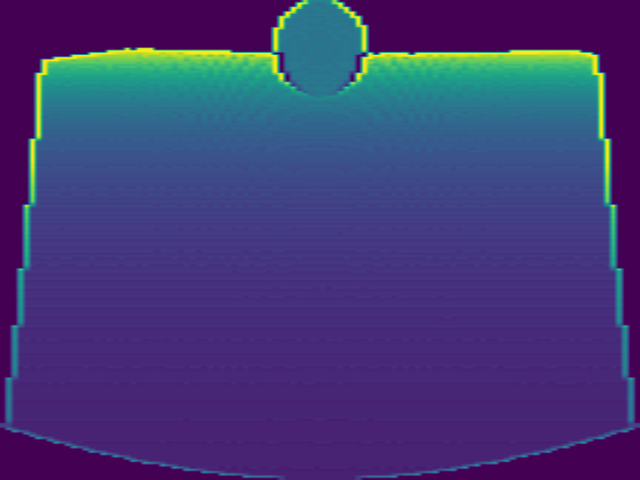sphere: (269, 1, 367, 97)
